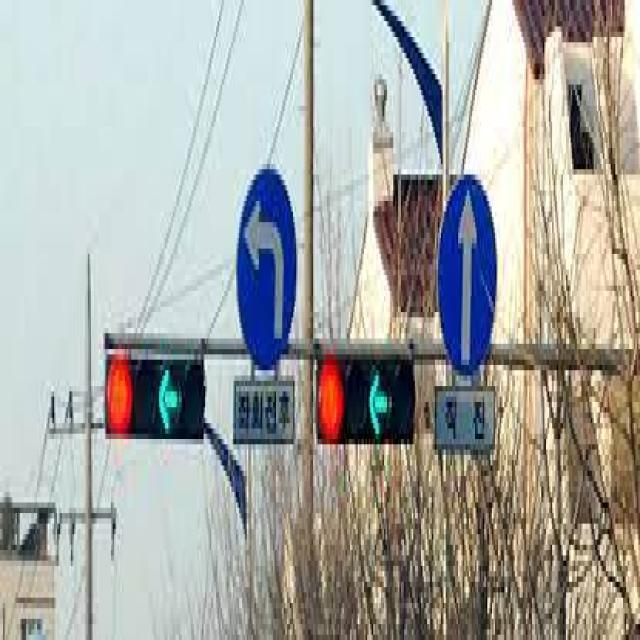Red Light: (315, 350, 348, 448), (106, 346, 136, 436)
